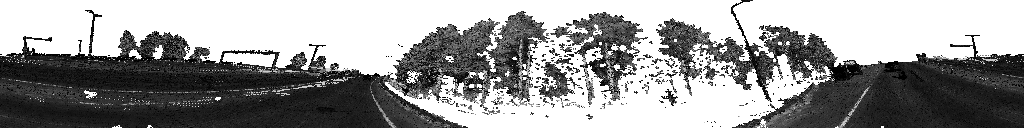gantry_sign_pole: (219, 50, 279, 68), (22, 36, 53, 61), (950, 34, 981, 58)
light_pole: (731, 0, 771, 107), (85, 11, 101, 65), (308, 45, 325, 72), (77, 40, 82, 59)
traffic_pole: (922, 54, 925, 65), (916, 55, 920, 63)
